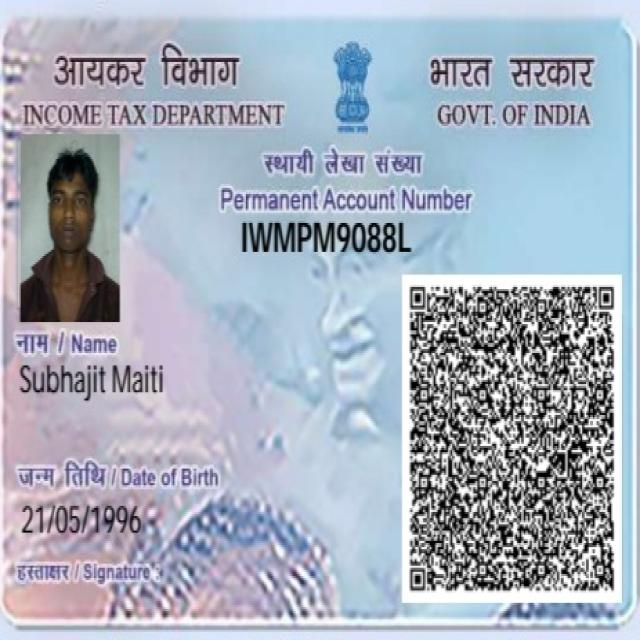pan_card: (2, 17, 635, 619)
